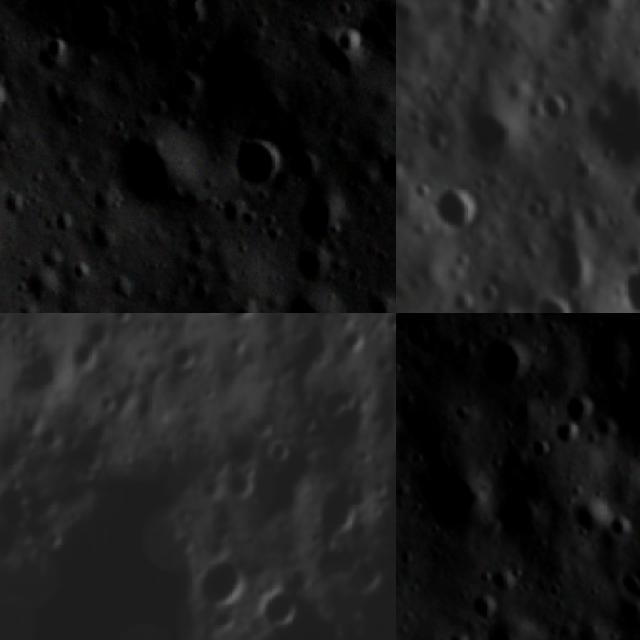crater: (87, 94, 219, 227), (561, 46, 640, 187), (403, 445, 504, 547), (268, 162, 368, 262), (210, 114, 301, 206), (462, 320, 548, 408), (415, 168, 497, 248), (265, 313, 342, 397), (487, 476, 562, 552), (186, 551, 261, 624), (0, 340, 73, 413), (264, 263, 358, 313), (133, 0, 232, 47), (333, 539, 396, 607), (26, 9, 91, 74), (252, 579, 312, 640), (586, 246, 640, 313), (560, 482, 618, 540), (320, 14, 377, 70), (475, 546, 531, 602), (359, 131, 396, 211), (516, 274, 591, 313), (554, 381, 604, 432), (606, 313, 640, 381), (473, 608, 542, 640), (396, 313, 440, 359), (435, 0, 501, 30), (462, 584, 507, 628), (160, 337, 202, 381), (0, 58, 21, 133), (614, 173, 640, 231), (600, 507, 638, 544), (218, 313, 265, 327)
